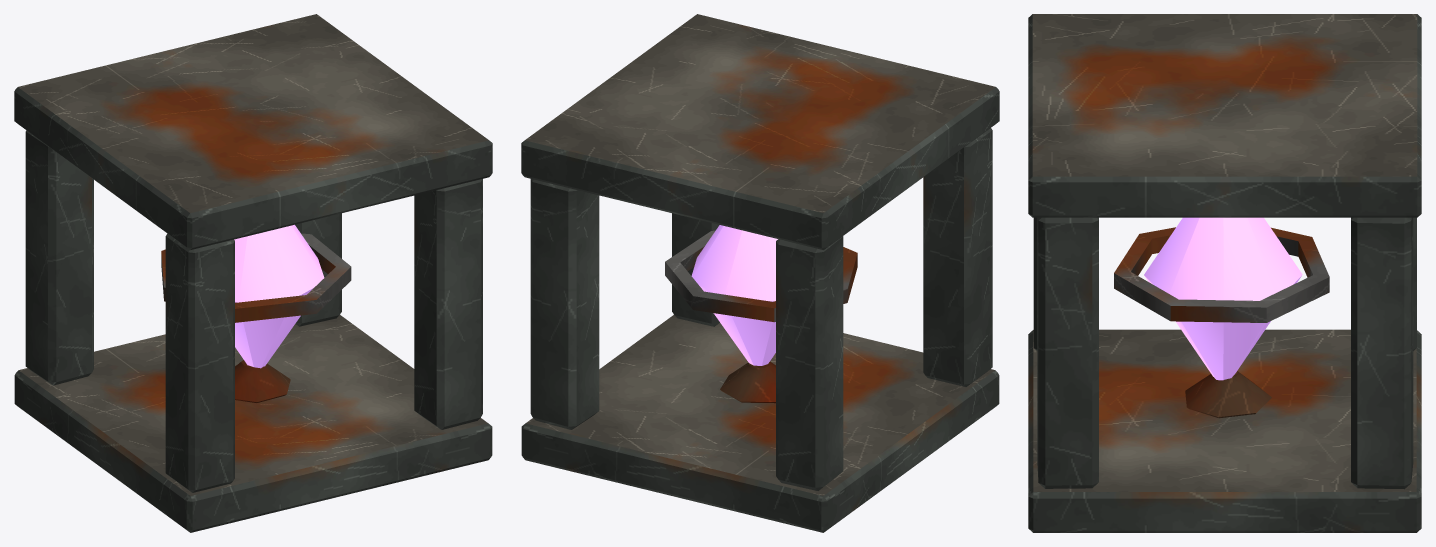
The model's file is R4X_CoreBooster_LOD1.glb.
3 renders of one model, left to right at view 1: azimuth 30°, elevation 25°; view 2: azimuth 150°, elevation 25°; view 3: azimuth 270°, elevation 25°, orthographic. The views are drawn at different scales.
Parts seen in each view (by area): view 1: R4X_CoreBooster_LOD1; view 2: R4X_CoreBooster_LOD1; view 3: R4X_CoreBooster_LOD1.
Part boxes in pixels (x1,y1,x2,y2): R4X_CoreBooster_LOD1: [14, 14, 492, 532]; R4X_CoreBooster_LOD1: [521, 14, 999, 532]; R4X_CoreBooster_LOD1: [1028, 14, 1421, 532].
Bounding box in the file's own units: 0.52 × 0.52 × 0.52.
Materials: 5 (4 with a texture image).
